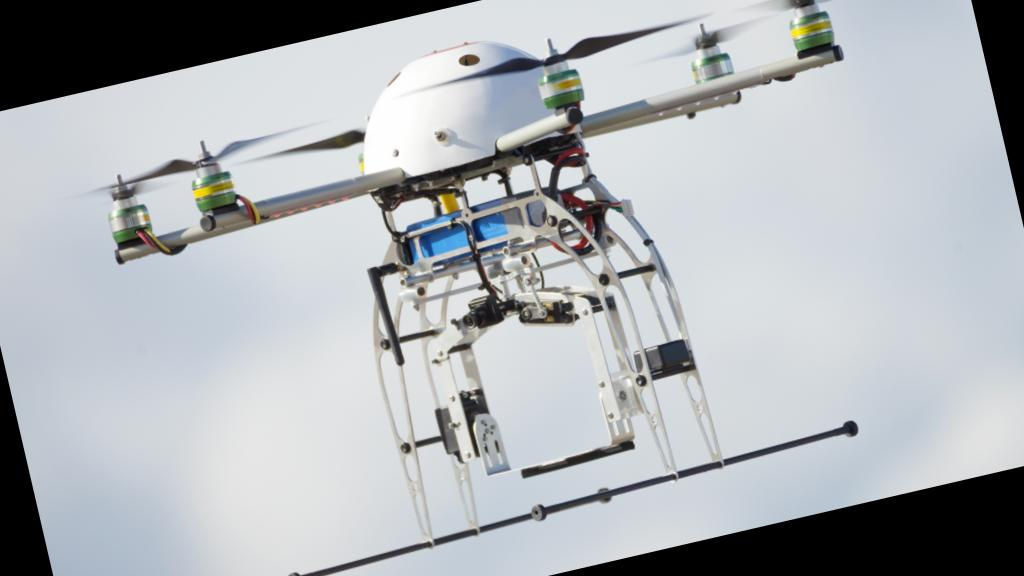drone: (48, 0, 921, 366)
